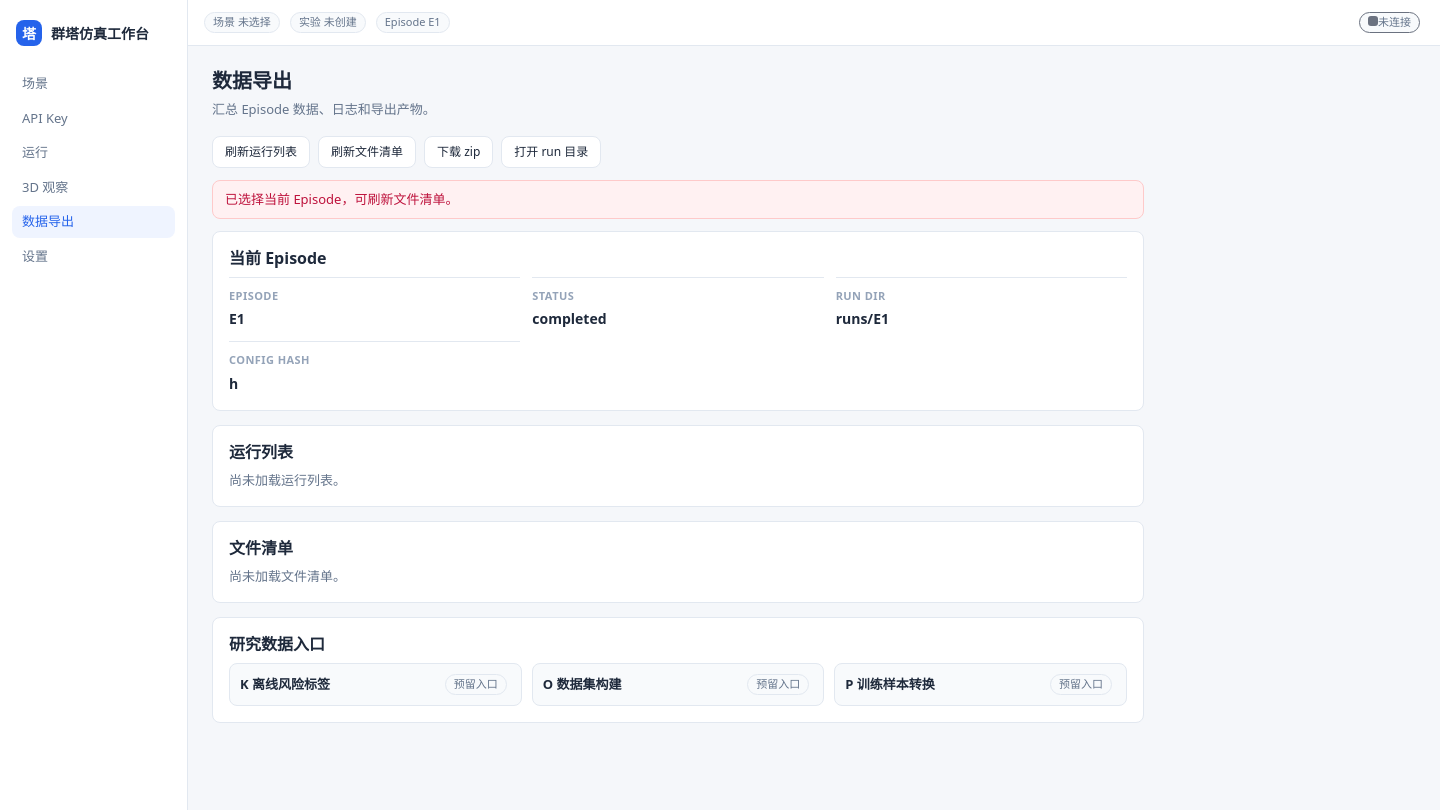
Scenario: workbench data export and settings pages › shows a visible fallback when object URL downloads are unsupported
The image size is (1440, 810).
Click the button "下载 zip" at (459, 152), box [424,136,493,168]
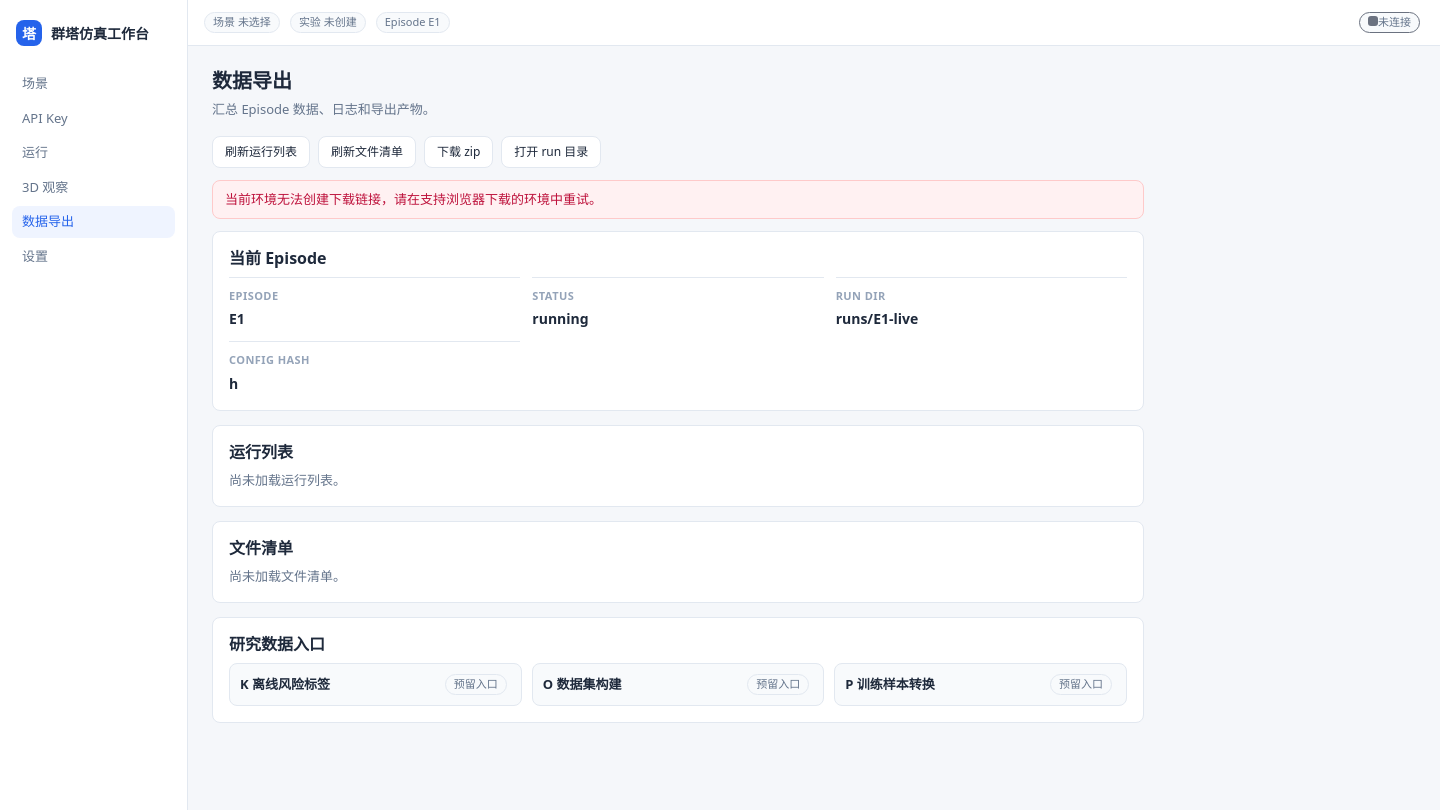
Now the message shows "当前环境无法创建下载链接", box [225,190,602,208]
